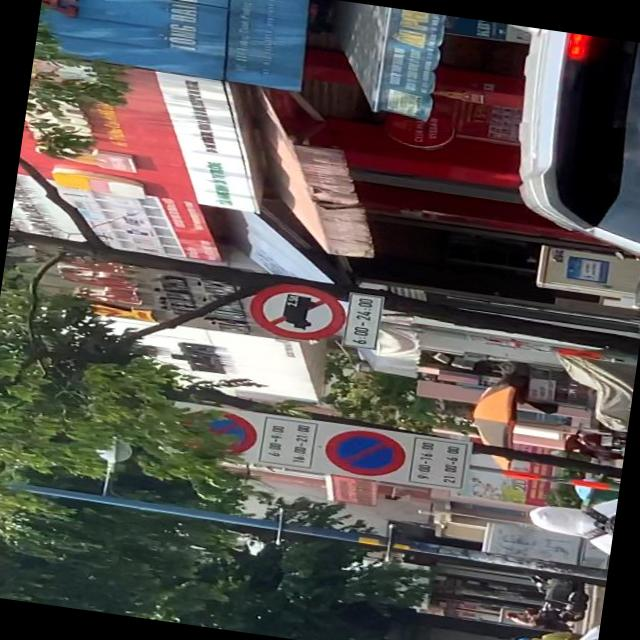P-131a: (322, 424, 407, 479)
